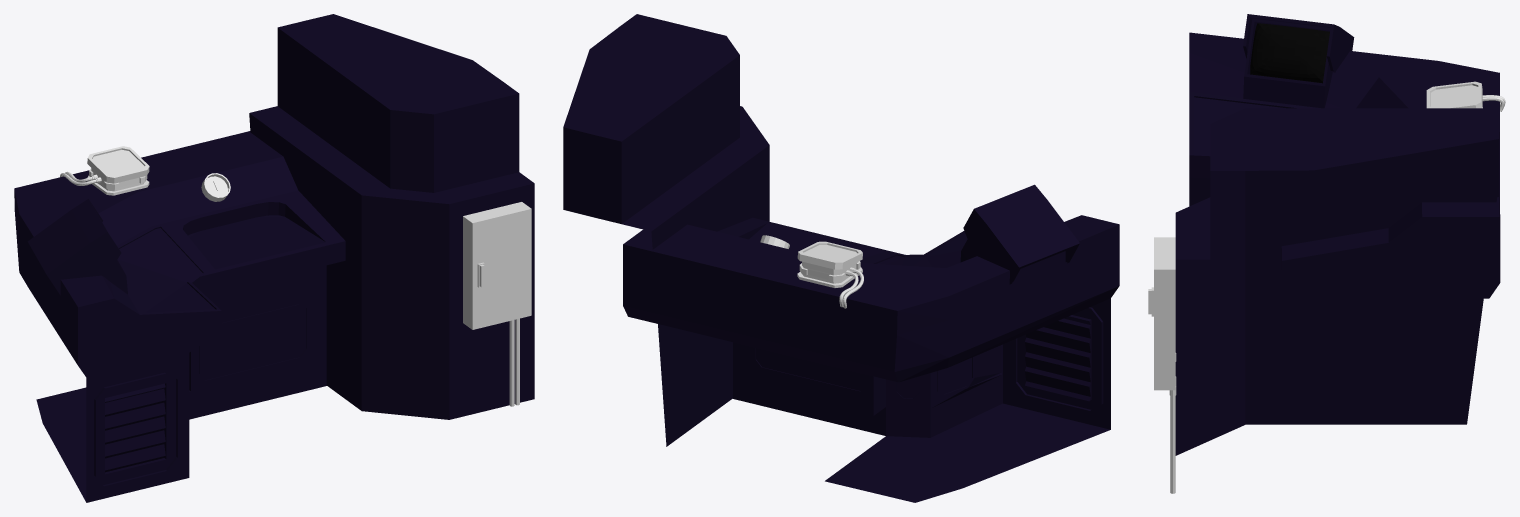
The model's file is Console.fbx.
3 renders of one model, left to right at view 1: azimuth 30°, elevation 25°; view 2: azimuth 150°, elevation 25°; view 3: azimuth 270°, elevation 25°, orthographic. The views are drawn at different scales.
Visible parts, largest first — view 1: ConsoleBox, ConsoleCorner, Console, FuzeBoxDoor, WeatherRadar, HUDProjector, FuzeBox, Gauge; view 2: ConsoleCorner, ConsoleBox, Console, WeatherRadar, HUDProjector; view 3: ConsoleBox, Console, ConsoleCorner, WeatherRadar, FuzeBox, HUDProjector, FuzeBoxDoor, Conduat.
Boxes of the visible parts, box(x1,y1,x2,y2) form: ConsoleBox: box(249, 14, 534, 419); ConsoleCorner: box(14, 170, 221, 502); Console: box(136, 131, 345, 419); FuzeBoxDoor: box(470, 207, 531, 329); WeatherRadar: box(28, 199, 127, 295); HUDProjector: box(87, 146, 149, 195); FuzeBox: box(463, 202, 529, 328); Gauge: box(201, 173, 230, 201); ConsoleCorner: box(804, 215, 1119, 502); ConsoleBox: box(563, 14, 769, 446); Console: box(623, 217, 905, 435); WeatherRadar: box(960, 184, 1079, 284); HUDProjector: box(797, 241, 862, 287); ConsoleBox: box(1175, 108, 1499, 455); Console: box(1281, 122, 1500, 298); ConsoleCorner: box(1189, 32, 1499, 206); WeatherRadar: box(1243, 14, 1354, 108); FuzeBox: box(1158, 237, 1175, 390); HUDProjector: box(1426, 81, 1482, 108); FuzeBoxDoor: box(1151, 237, 1162, 390); Conduat: box(1170, 396, 1175, 493).
Bounding box in the file's own units: 1.8 × 2.95 × 1.85.
